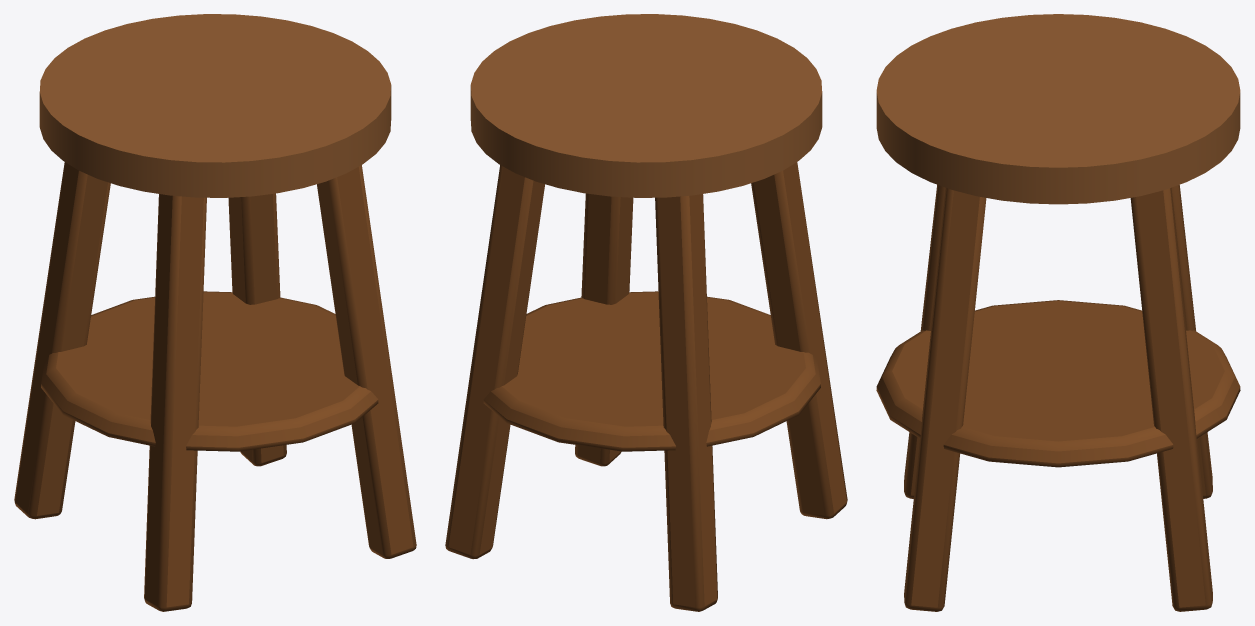
File: GheDau_Go.glb
3 views of the same model, side by side, from view 1: azimuth 30°, elevation 25°; view 2: azimuth 150°, elevation 25°; view 3: azimuth 270°, elevation 25° (orthographic). The views are drawn at different scales.
Parts seen in each view (by area): view 1: GheDau_Go_1, GheDau_Go; view 2: GheDau_Go_1, GheDau_Go; view 3: GheDau_Go_1, GheDau_Go.
Part boxes in pixels (left/top/right/bottom): GheDau_Go_1: left=14, top=162, right=416, bottom=611; GheDau_Go: left=39, top=14, right=391, bottom=197; GheDau_Go_1: left=445, top=162, right=847, bottom=611; GheDau_Go: left=470, top=14, right=822, bottom=197; GheDau_Go_1: left=876, top=184, right=1240, bottom=611; GheDau_Go: left=876, top=14, right=1240, bottom=204.
Bounding box in the file's own units: 0.3148 × 0.4397 × 0.3148.
